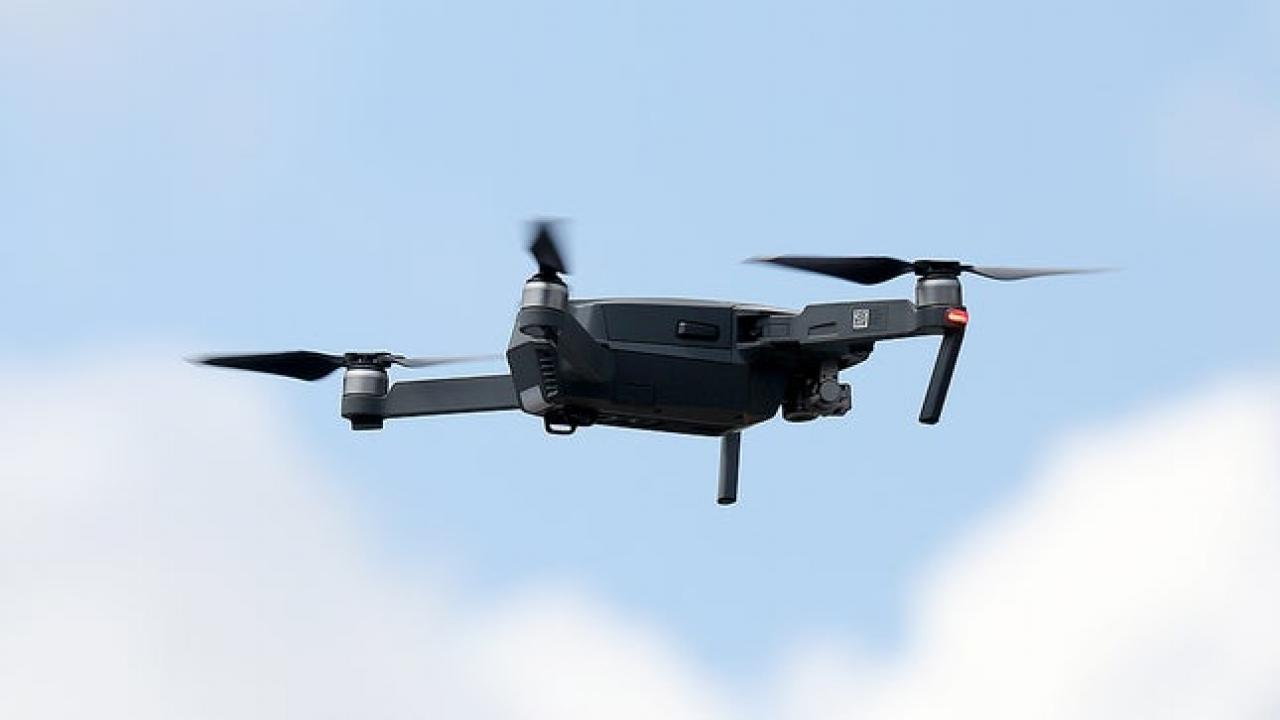Drone: (172, 205, 1124, 518)
